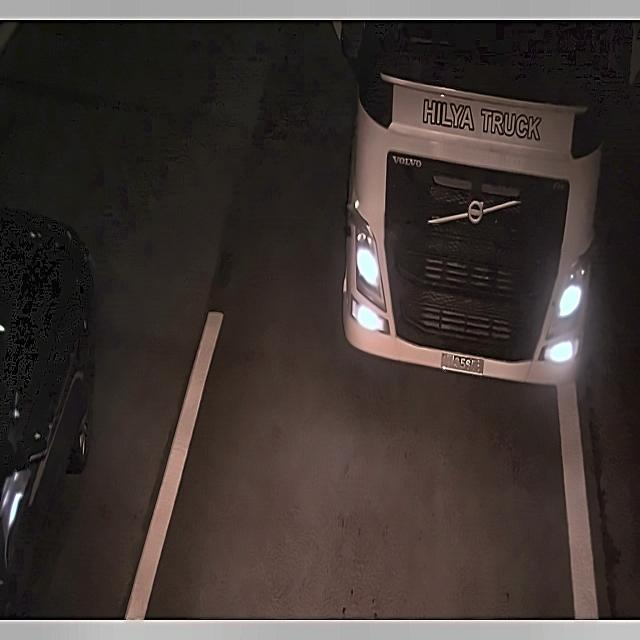car: (438, 346, 491, 386)
